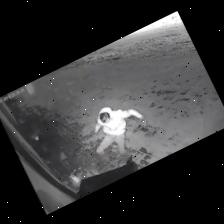person: (95, 107, 146, 157)
